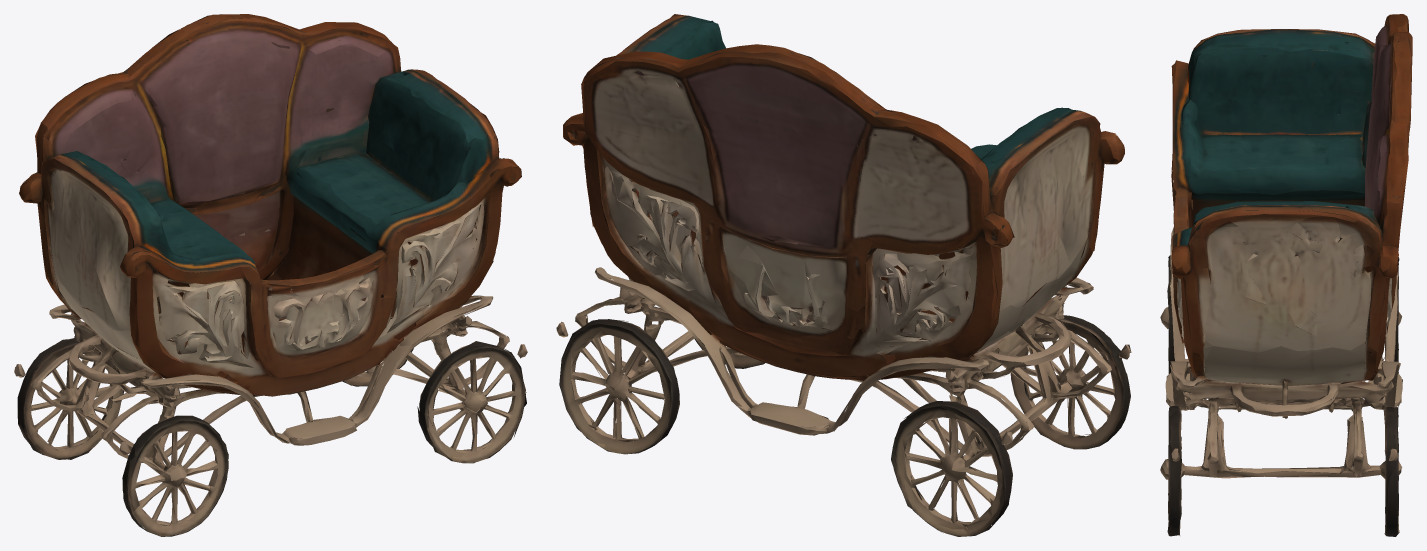
Rendered from unified--carousel-carriage.glb.
3 views of the same model, side by side, from view 1: azimuth 30°, elevation 25°; view 2: azimuth 150°, elevation 25°; view 3: azimuth 270°, elevation 25° (orthographic). The views are drawn at different scales.
Parts seen in each view (by area): view 1: carousel-carriage-1; view 2: carousel-carriage-1; view 3: carousel-carriage-1.
Boxes of the visible parts, bbox=[...] form: carousel-carriage-1: bbox=[14, 14, 527, 536]; carousel-carriage-1: bbox=[556, 14, 1131, 536]; carousel-carriage-1: bbox=[1160, 14, 1412, 536].
Bounding box in the file's own units: 2.2 × 2.07 × 1.14.
1 material, 1 textured.
